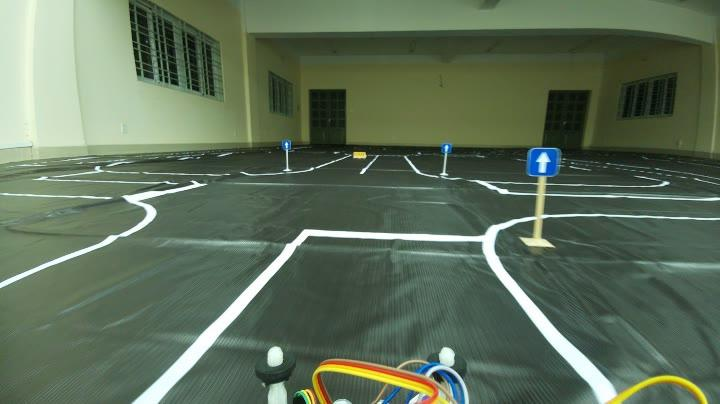onewayroad: (524, 143, 564, 182), (442, 138, 451, 153), (283, 136, 292, 148)
roadblock: (351, 148, 369, 164)
